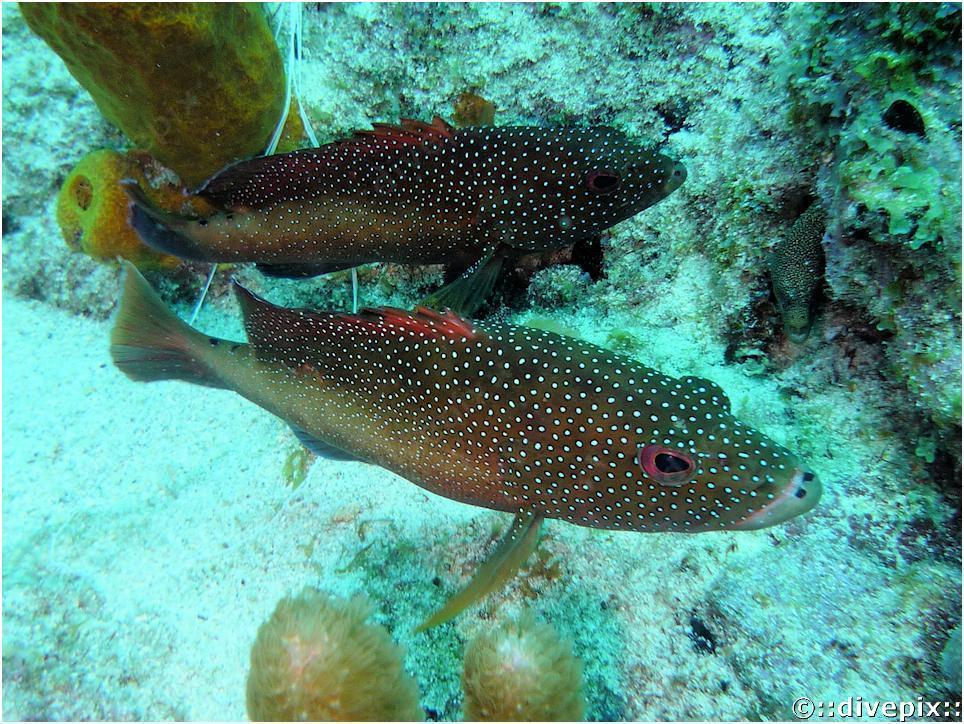Cephalopholis_fulvaw: (111, 259, 851, 621), (104, 112, 729, 296)
